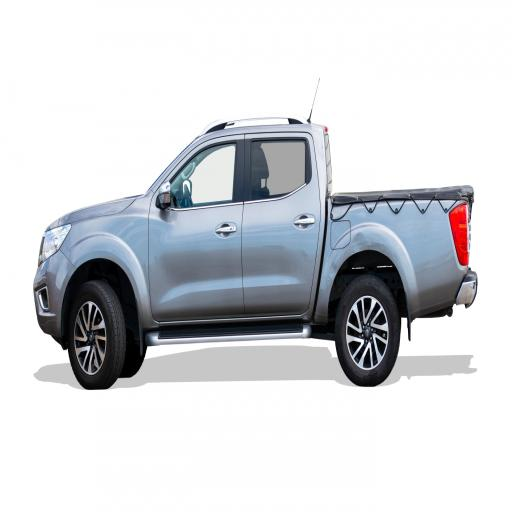pickup: (33, 108, 479, 395)
